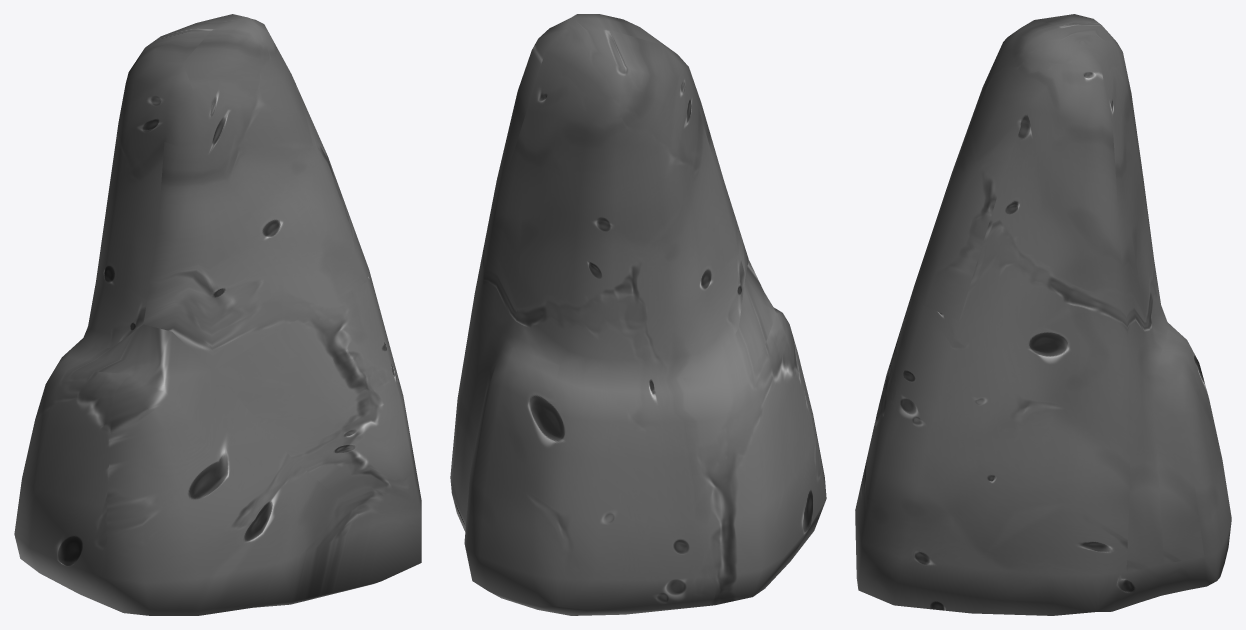
Rendered from SM_ENV_stone_15.fbx.
3 renders of one model, left to right at view 1: azimuth 30°, elevation 25°; view 2: azimuth 150°, elevation 25°; view 3: azimuth 270°, elevation 25°, orthographic. The views are drawn at different scales.
Parts seen in each view (by area): view 1: SM_ENV_stone_15_LOD0; view 2: SM_ENV_stone_15_LOD0; view 3: SM_ENV_stone_15_LOD0.
Boxes of the visible parts, bbox=[...] form: SM_ENV_stone_15_LOD0: bbox=[14, 14, 421, 615]; SM_ENV_stone_15_LOD0: bbox=[450, 14, 826, 615]; SM_ENV_stone_15_LOD0: bbox=[855, 14, 1231, 615].
Size of what is drawn, in the model's own units: 186 by 294 by 182.
